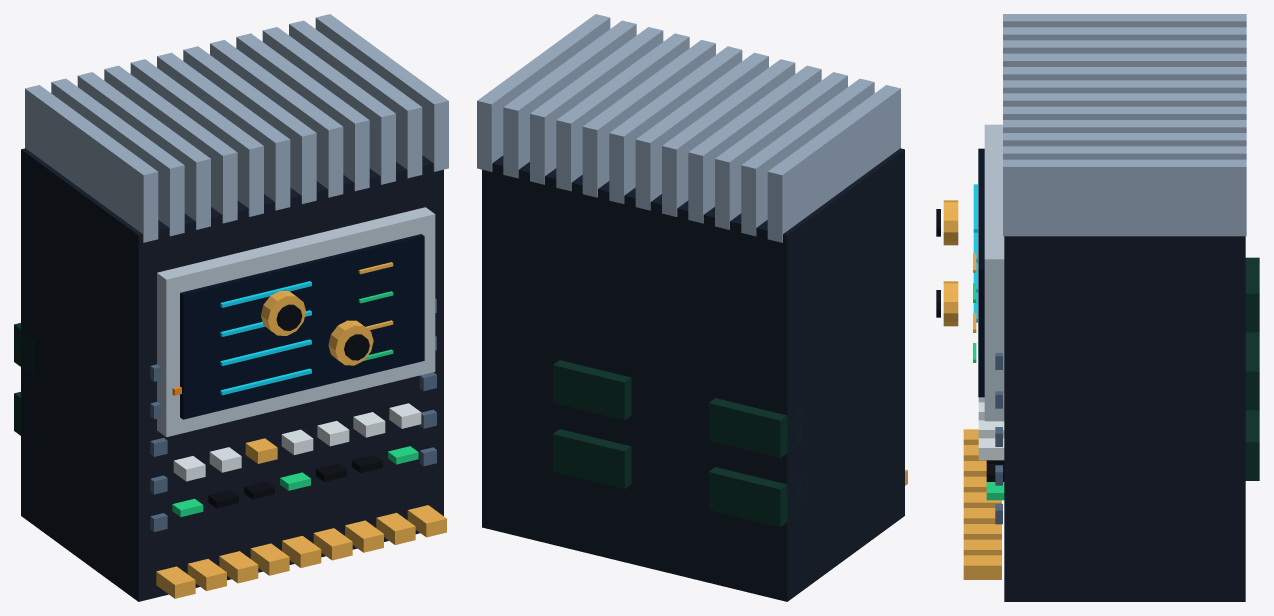
File: 86_L91_DetectorCoolingSystem.fbx
3 renders of one model, left to right at view 1: azimuth 30°, elevation 25°; view 2: azimuth 150°, elevation 25°; view 3: azimuth 270°, elevation 25°, orthographic. The views are drawn at different scales.
Parts seen in each view (by area): view 1: L91_DetectorCoolingSystem, L91_DetectorCoolingSystem_Part_0014, L91_DetectorCoolingSystem_Part_0012; view 2: L91_DetectorCoolingSystem; view 3: L91_DetectorCoolingSystem, L91_DetectorCoolingSystem_Part_0012, L91_DetectorCoolingSystem_Part_0014.
Part boxes in pixels (x1,y1,x2,y2): L91_DetectorCoolingSystem: (14, 14, 448, 601); L91_DetectorCoolingSystem_Part_0014: (328, 320, 373, 365); L91_DetectorCoolingSystem_Part_0012: (261, 291, 305, 335); L91_DetectorCoolingSystem: (477, 14, 907, 601); L91_DetectorCoolingSystem: (963, 14, 1259, 601); L91_DetectorCoolingSystem_Part_0012: (943, 200, 958, 245); L91_DetectorCoolingSystem_Part_0014: (943, 281, 958, 326).
Size of the model in its own units: 106 by 139 by 92.96.
